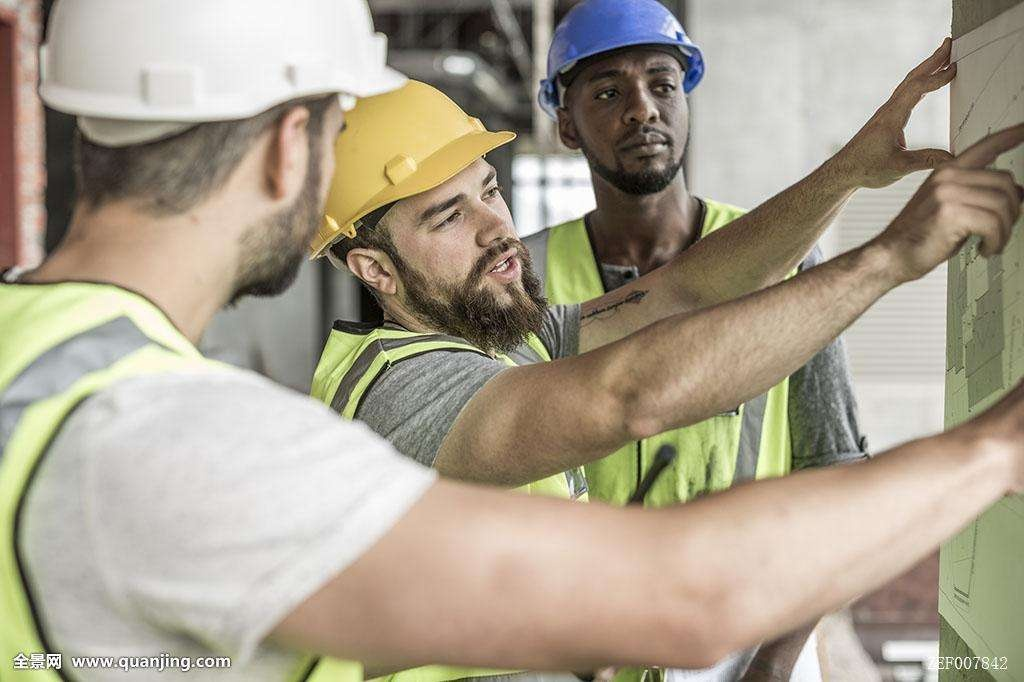blue: (530, 2, 724, 198)
white: (36, 7, 372, 307)
yellow: (307, 69, 551, 345)
